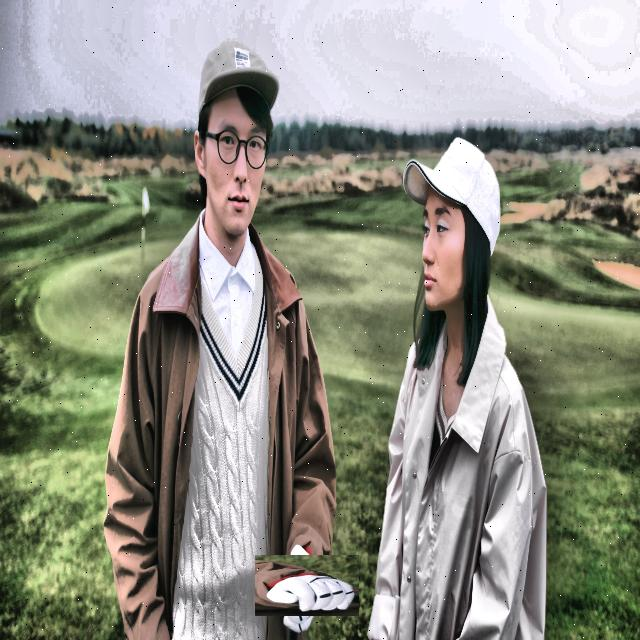gloved: (266, 544, 348, 626)
